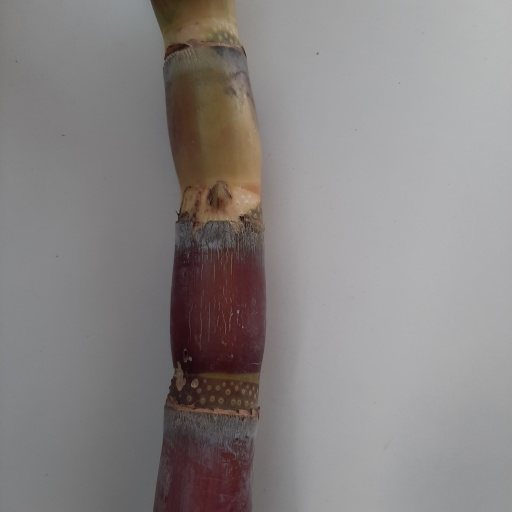Bud: (207, 180, 235, 215)
